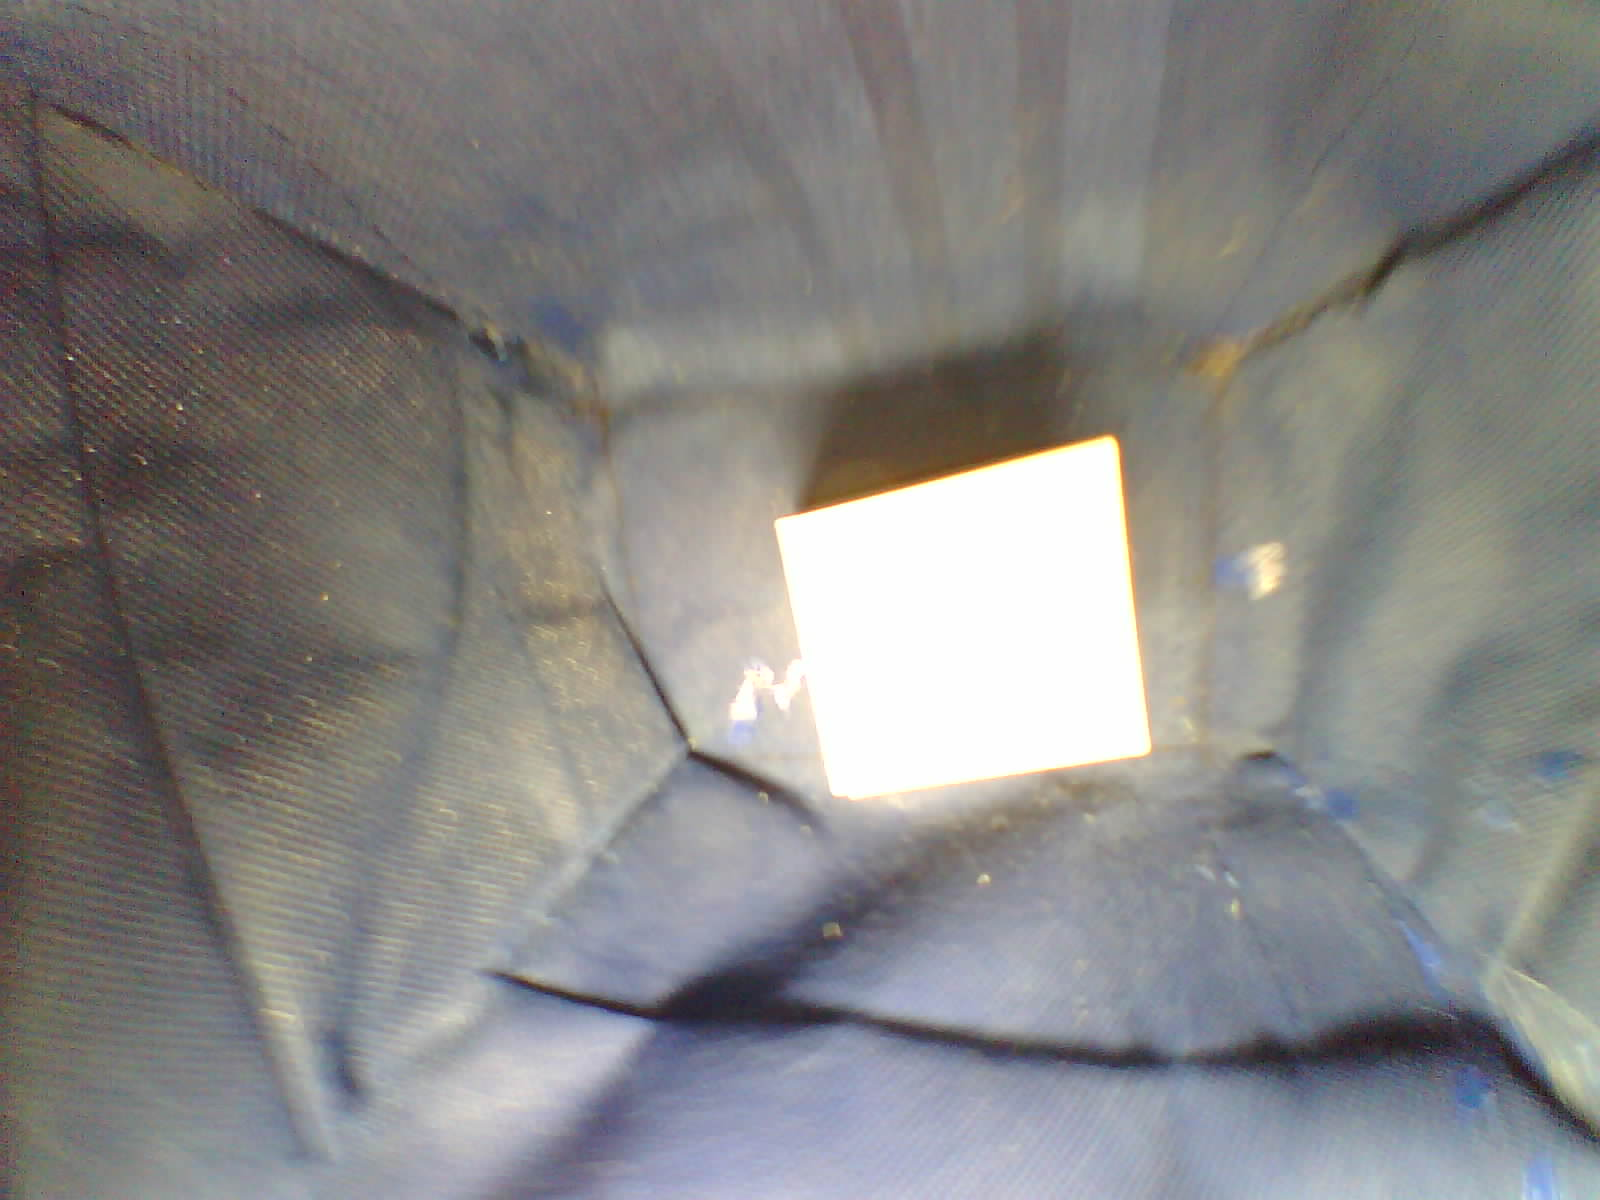cube-hard: (757, 418, 1165, 816)
